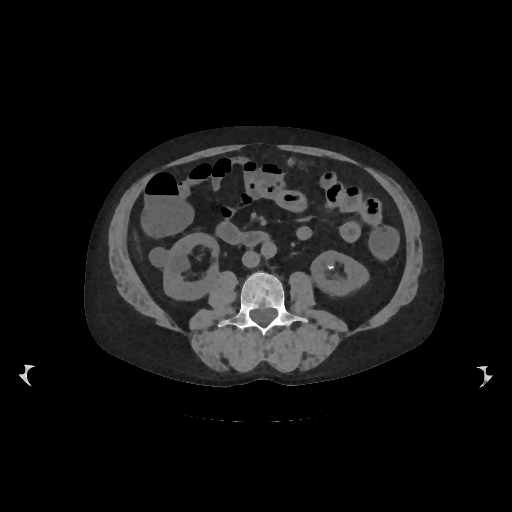Lesion: (323, 263, 338, 273)
